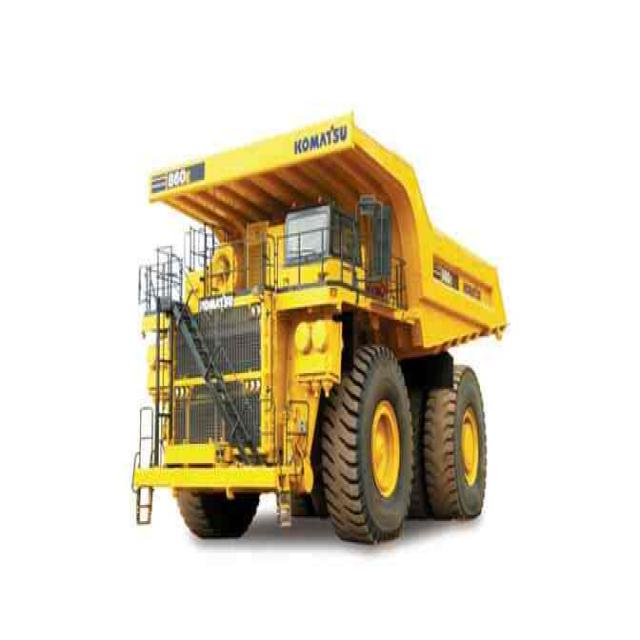dump_truck: (126, 112, 512, 555)
